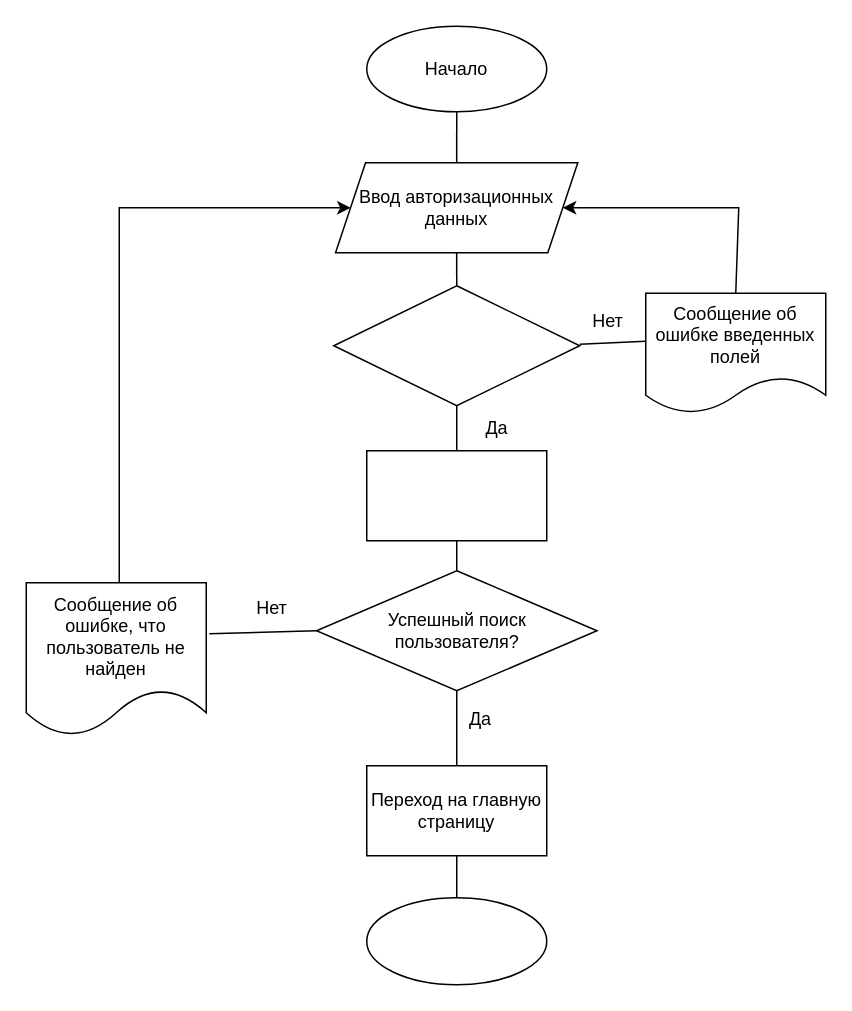
The diagram is 852 pixels wide and 1011 high, and some of its shapes have lost their labels. The shapes that lost their labels are listed below. From the top down, each one's box as (x1, y1, x2, y2) in pixels, then its label:
(332, 284, 580, 406): Данные введены верно?
(365, 449, 547, 541): Поиск пользователя в базе данных
(365, 896, 547, 985): Конец
